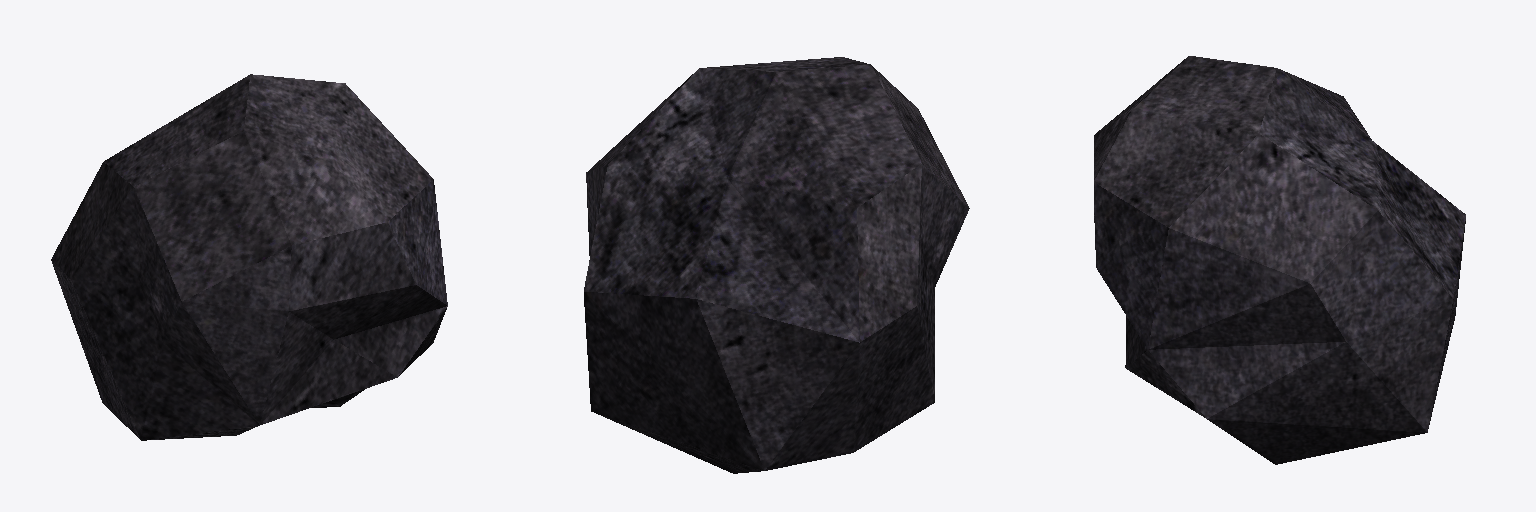
3 views of the same model, side by side, from view 1: azimuth 30°, elevation 25°; view 2: azimuth 150°, elevation 25°; view 3: azimuth 270°, elevation 25° (orthographic).
Parts seen in each view (by area): view 1: Plane001; view 2: Plane001; view 3: Plane001.
Boxes of the visible parts, <box> form: Plane001: <box>51,74,447,440</box>; Plane001: <box>584,57,969,473</box>; Plane001: <box>1094,56,1465,464</box>.
Bounding box in the file's own units: 64.58 × 68.35 × 62.56.
Materials: 1 (1 with a texture image).